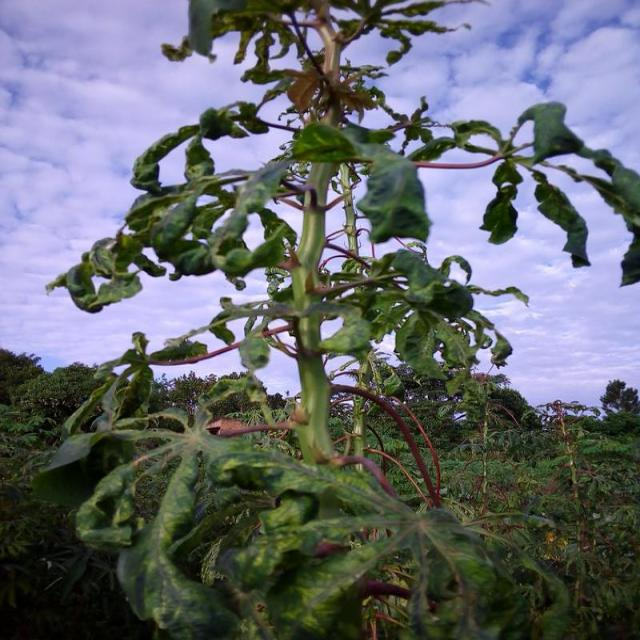cassava leaf: (34, 1, 639, 637)
